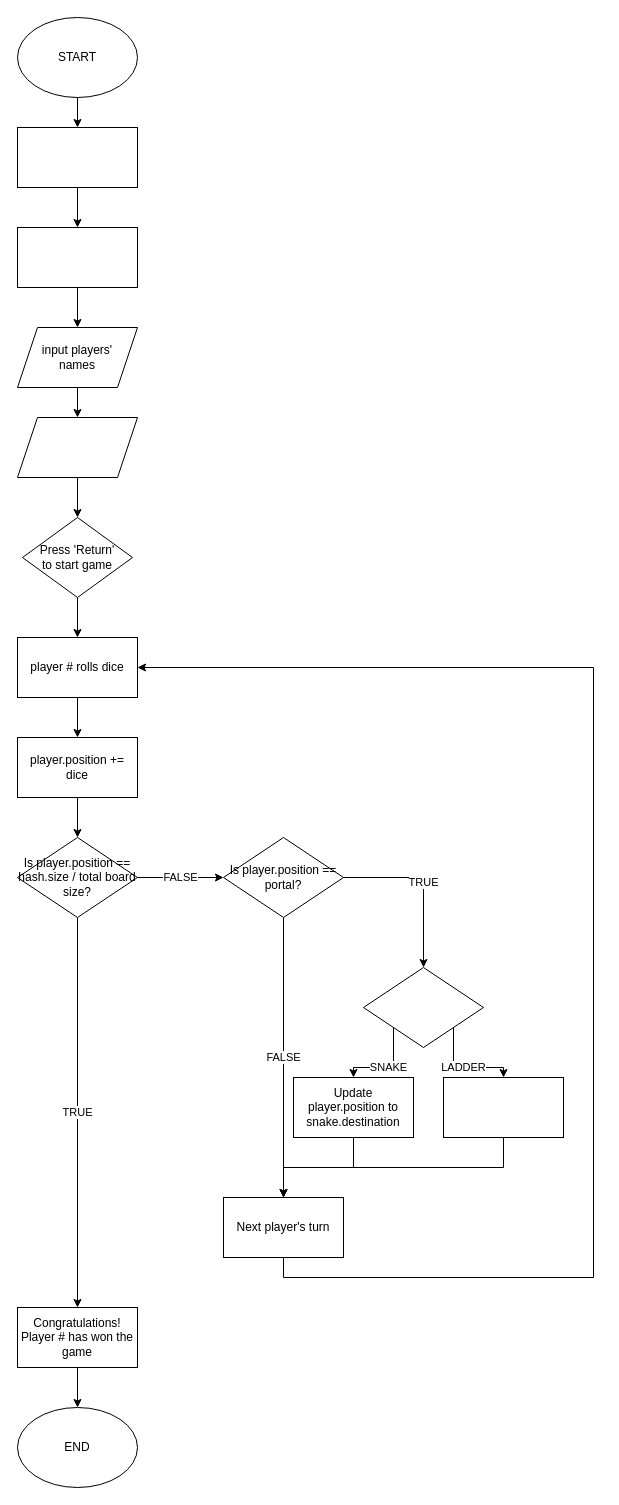
This 619x1505 diagram has some shape labels left out. Here are the shapes that lost their labels. From the top down, the centre of each, then its label:
At (77,157): "Install dependencies: bash install-game.sh".
At (77,257): "Run program: bash run-game.sh".
At (77,447): "input players' colour".
At (423,1007): "Is snake or ladder?".
At (503,1107): "Update player.position to ladder.destination".
